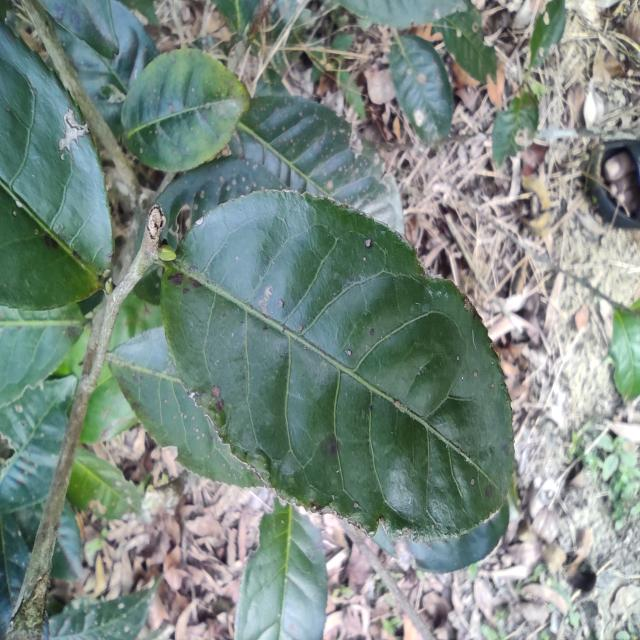Category D(7+ days, Not for Tea): (145, 177, 529, 550)
